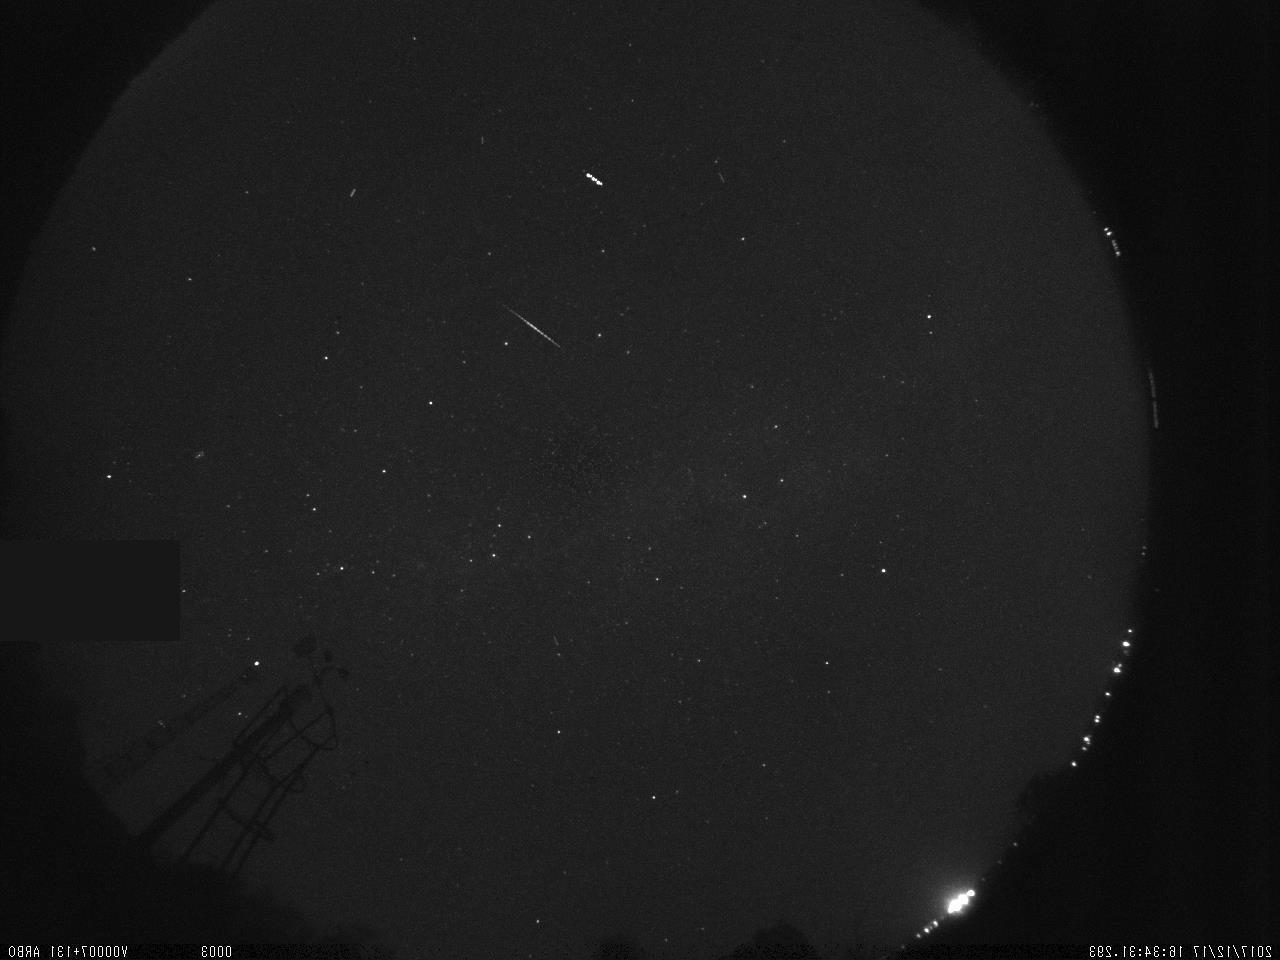meteor: (493, 295, 564, 356)
satelite: (579, 165, 611, 195)
